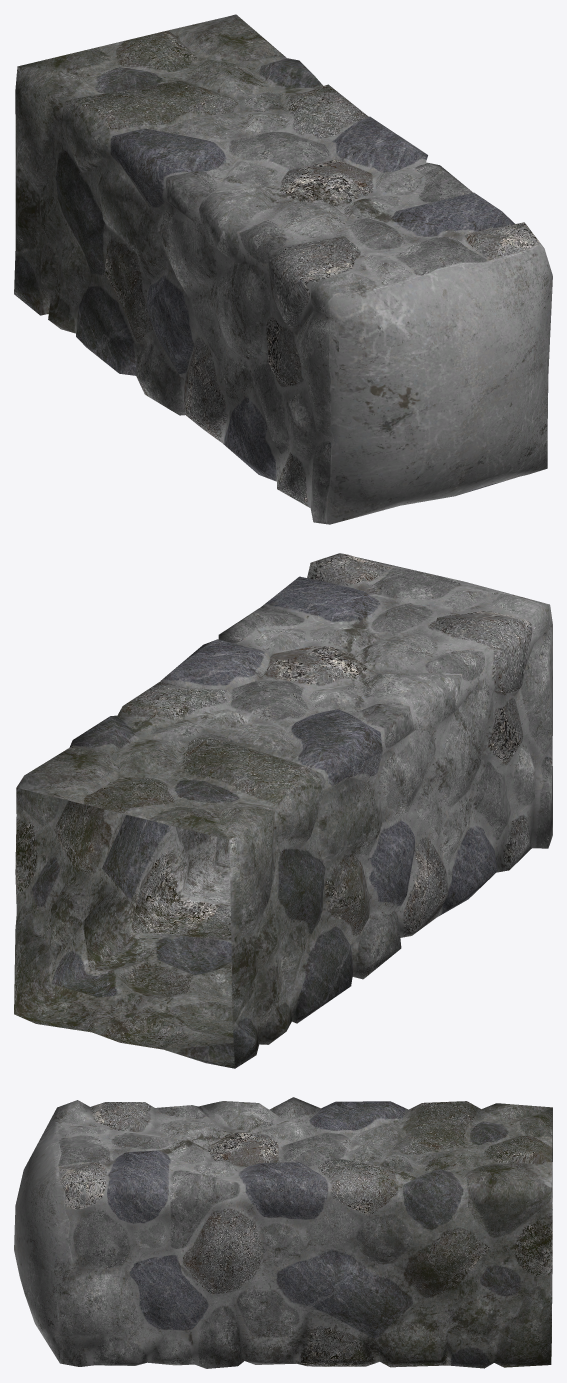
Rendered from StonePillar.obj.
3 views of the same model, one above another, from view 1: azimuth 30°, elevation 25°; view 2: azimuth 150°, elevation 25°; view 3: azimuth 270°, elevation 25° (orthographic). The views are drawn at different scales.
Visible parts, largest first — view 1: StonePillar; view 2: StonePillar; view 3: StonePillar.
Part boxes in pixels (x1,y1,x2,y2): StonePillar: (14, 14, 552, 524); StonePillar: (14, 553, 552, 1068); StonePillar: (14, 1097, 552, 1368).
Size of the model in its own units: 0.6601 by 0.662 by 1.67.
Materials: 1 (1 with a texture image).
